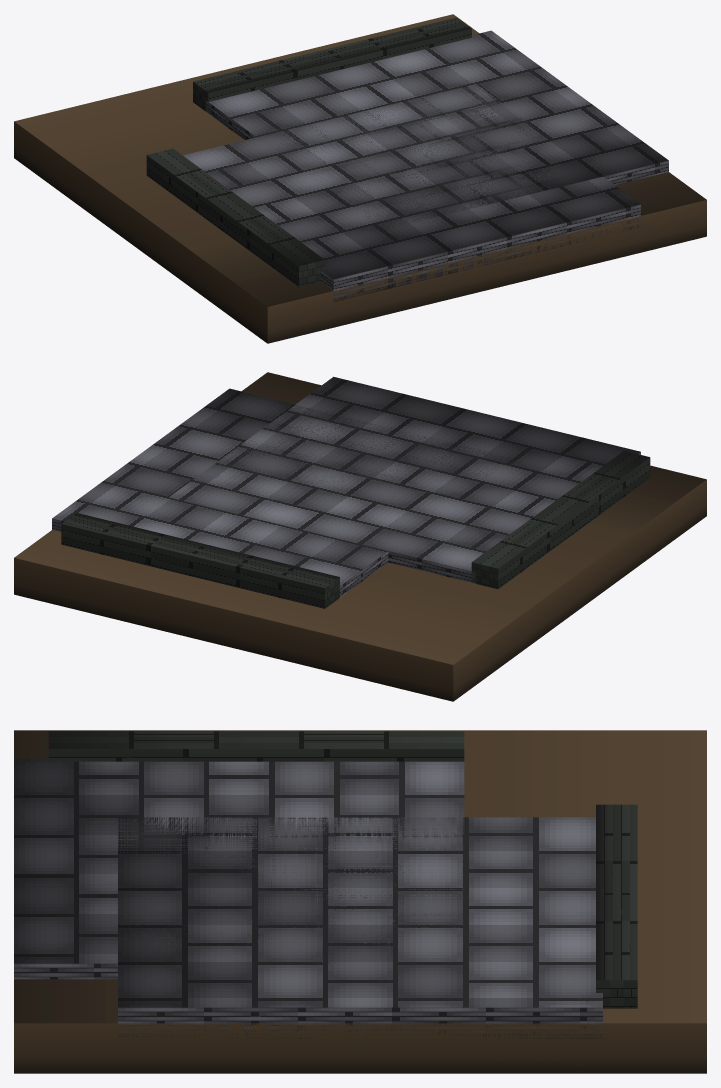
The model's file is road_corner.gltf.
The picture shows the model from 3 angles, top to bottom: view 1: azimuth 30°, elevation 25°; view 2: azimuth 150°, elevation 25°; view 3: azimuth 270°, elevation 25°; orthographic projection. The views are drawn at different scales.
Parts seen in each view (by area): view 1: road_corner; view 2: road_corner; view 3: road_corner.
Boxes of the visible parts, <box> form: road_corner: <box>14,14,706,343</box>; road_corner: <box>14,372,706,701</box>; road_corner: <box>14,730,706,1073</box>.
Bounding box in the file's own units: 1 × 0.125 × 1.
Materials: 1 (1 with a texture image).
